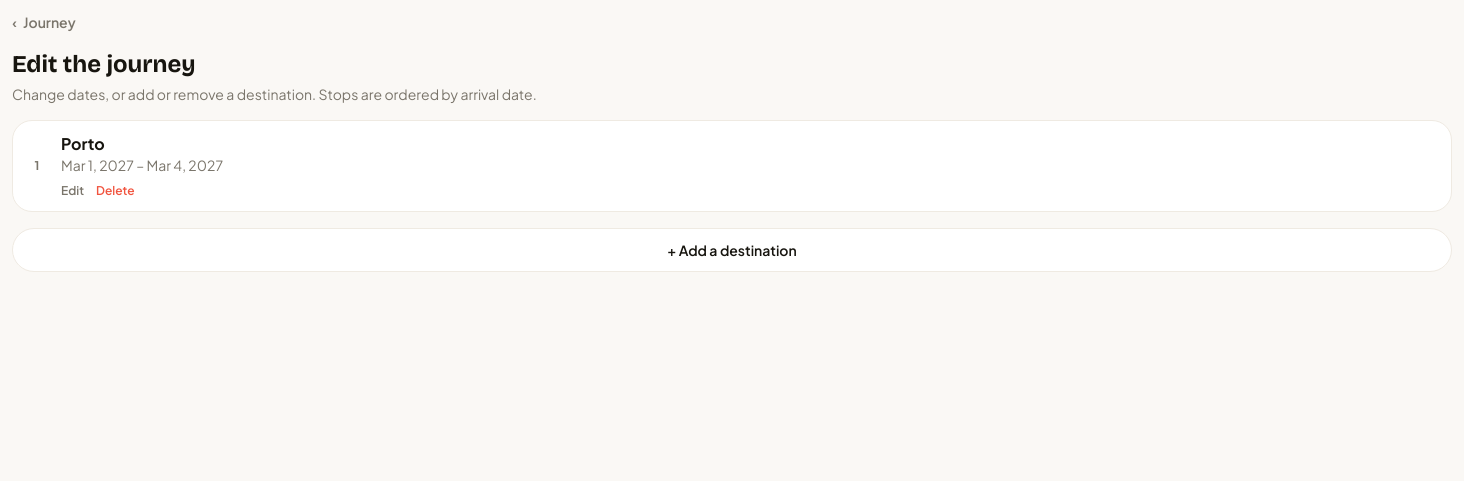
Test: the journey editor › shows a rejected save in words rather than in field names
Click the button "Edit" at [73, 191], box [61,183,84,199]
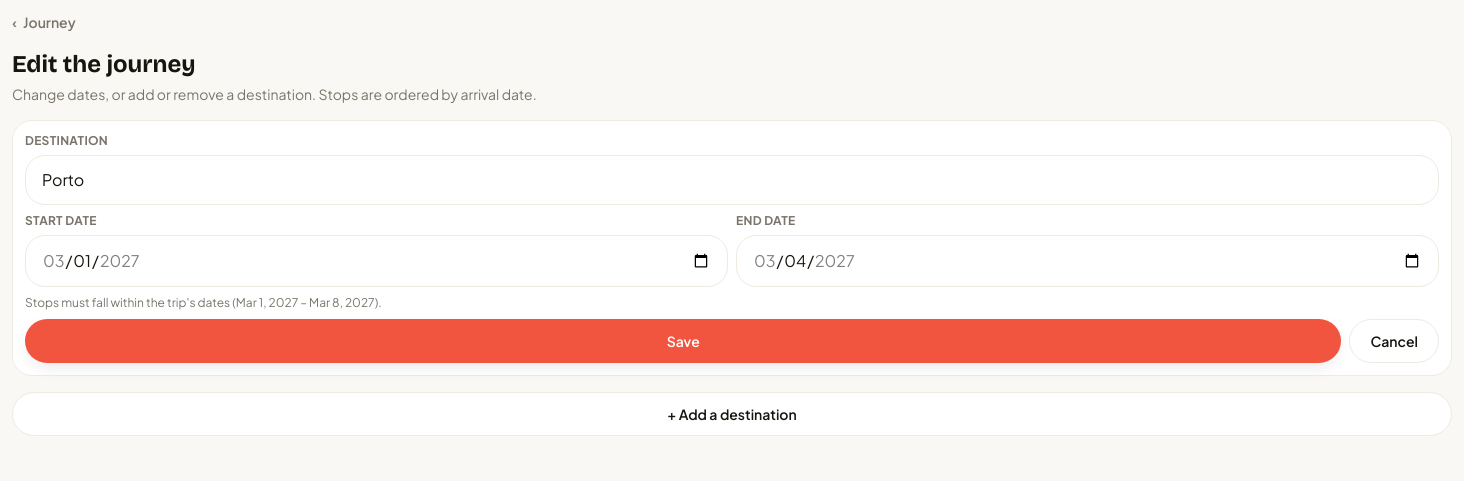
Type "2027-02-28" into the date field labelled "End date" at [1088, 261], box [736,235,1439,287]
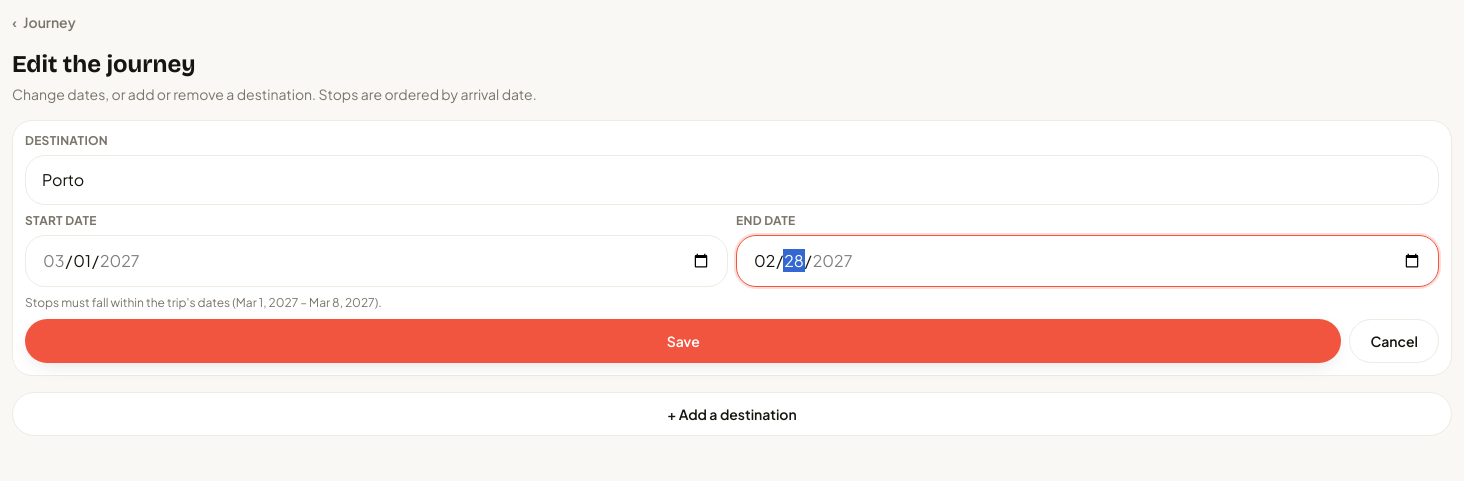
Click the button "Save" at [683, 341], box [25,319,1342,363]
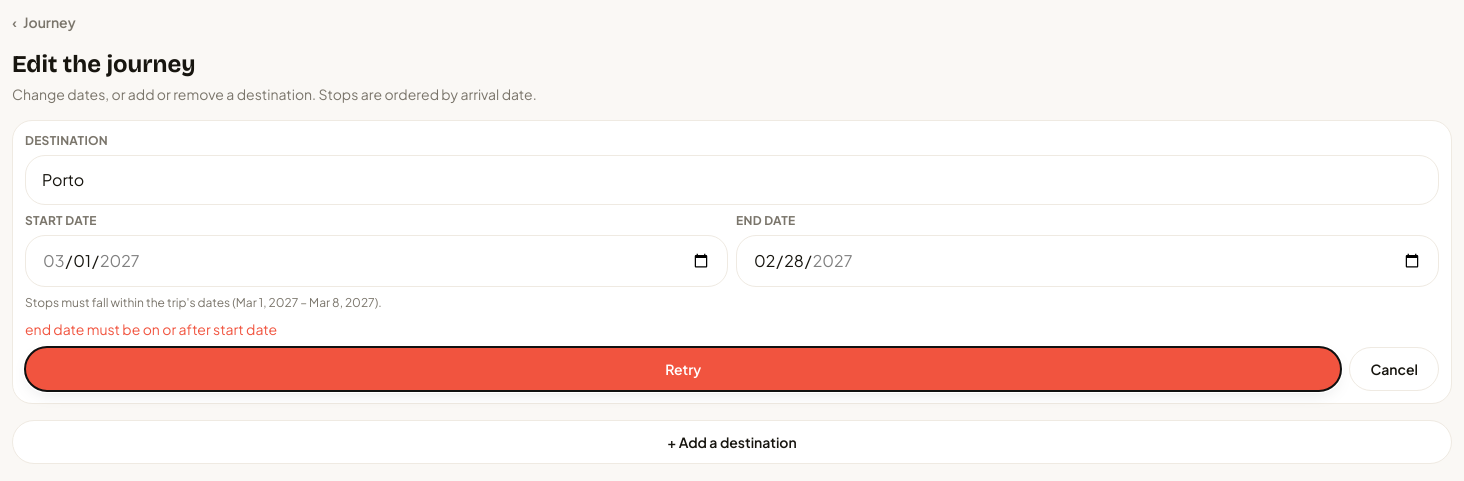
Expected: the text "end date must be on or after start date" is shown, [25,320,277,338]
